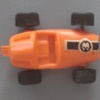carro: (3, 14, 99, 83)
